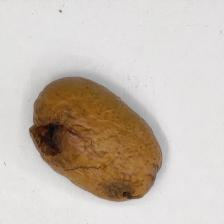NG: (27, 108, 70, 162), (97, 176, 147, 202)
